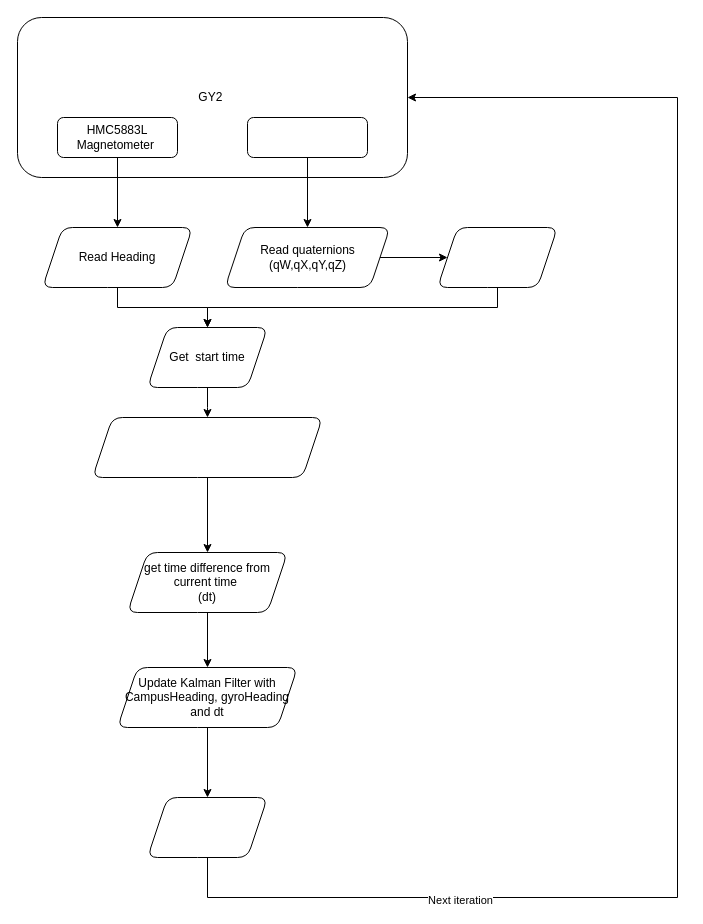
The diagram is 703 pixels wide and 924 high, and some of its shapes have lost their labels. Each missing label, with the centre of its shape:
Compute heading from quaternion: point (497, 257)
Compute the new Heading: point (207, 827)
Gyroscope: point (307, 137)
Predict with using kalman filter and heading using the campus reading: point (207, 447)
